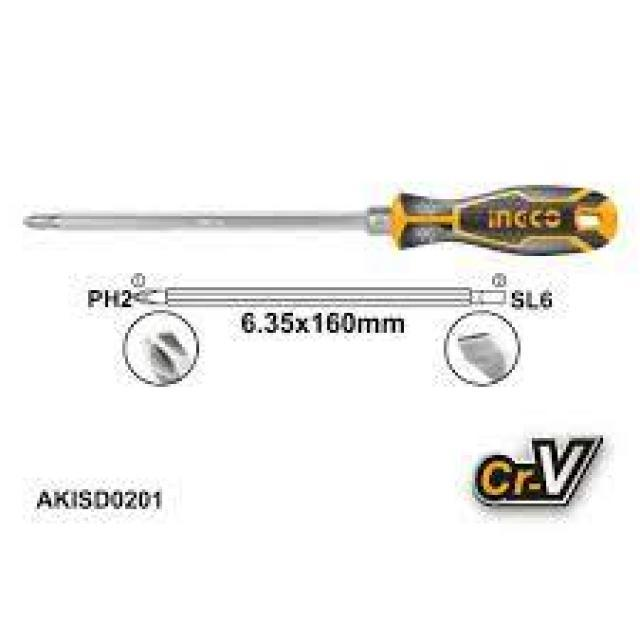screwdriver: (20, 182, 618, 265)
